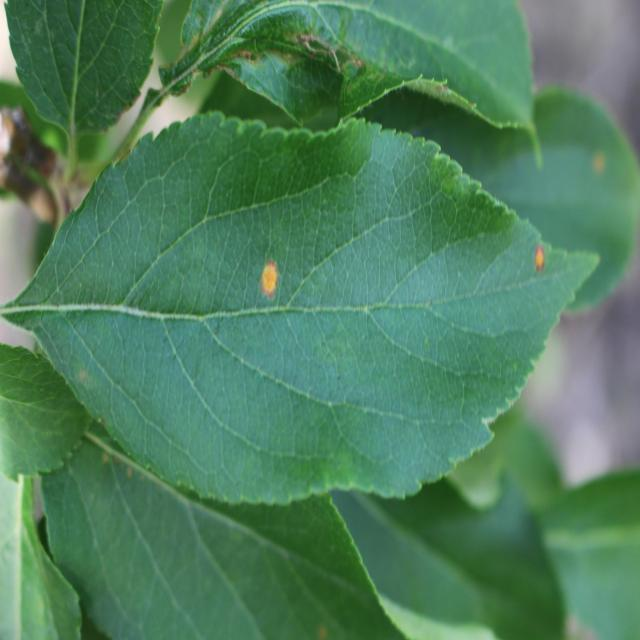Rust: (248, 242, 288, 320), (528, 227, 554, 289)
